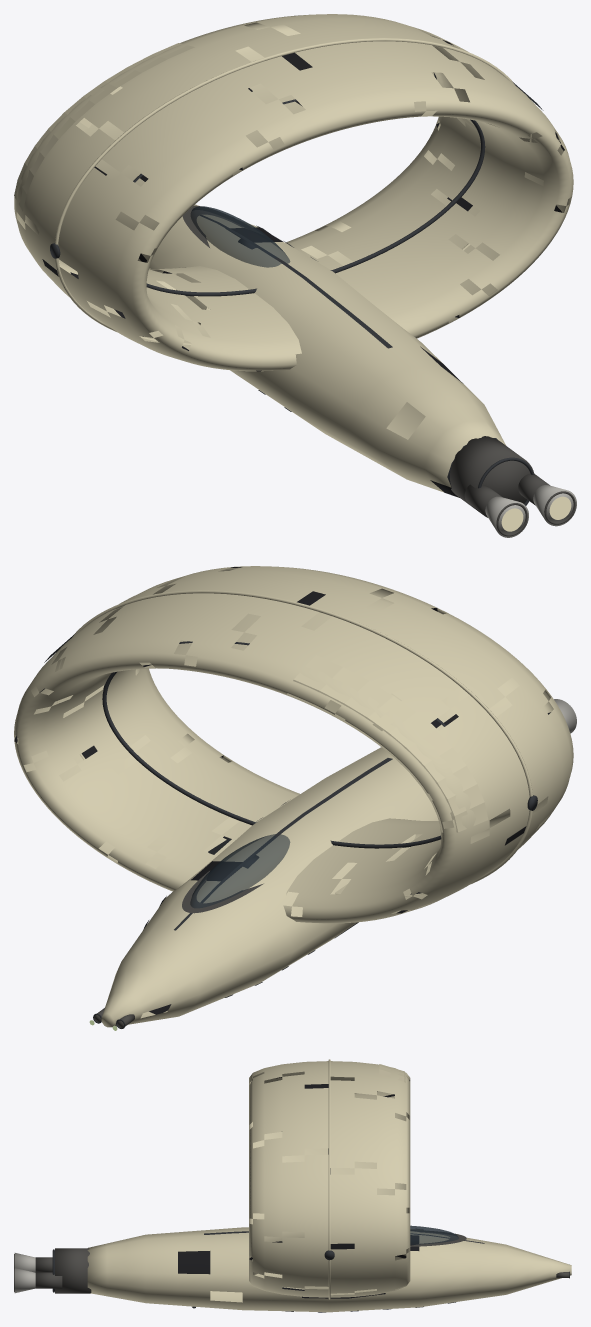
File: Ship_Hooper_760830.glb
The picture shows the model from 3 angles, top to bottom: view 1: azimuth 30°, elevation 25°; view 2: azimuth 150°, elevation 25°; view 3: azimuth 270°, elevation 25°; orthographic projection. The views are drawn at different scales.
Parts seen in each view (by area): view 1: Hoop_MainStructuralRing_YAxisHole_ElongatedY_LowerMidpointAt, Fuselage_MainCenteredHull_CenterOfMassAtOrigin, EngineBlock_AftHullIntegratedMountPlate, CanopyGlass_LowForwardPodDome, PaintHoopAsymmetricGate_LeftTallPrimaryPanel, Hoop_OuterArmorRaisedRim, Hoop_InnerLip_DarkInsetRing, EngineBell_Left_AftHullBurnishedNozzle, EngineBell_Right_AftHullBurnishedNozzle, FuselageLongitudinalSeam_DorsalDarkSpine, EngineEmitter, CanopyFrame_LowInsetOvalRim; view 2: Hoop_MainStructuralRing_YAxisHole_ElongatedY_LowerMidpointAt, Fuselage_MainCenteredHull_CenterOfMassAtOrigin, PaintHoopAsymmetricGate_LeftTallPrimaryPanel, CanopyGlass_LowForwardPodDome, Hoop_OuterArmorRaisedRim, Hoop_InnerLip_DarkInsetRing, CanopyFrame_LowInsetOvalRim, FuselageLongitudinalSeam_DorsalDarkSpine; view 3: Hoop_MainStructuralRing_YAxisHole_ElongatedY_LowerMidpointAt, Fuselage_MainCenteredHull_CenterOfMassAtOrigin, EngineBlock_AftHullIntegratedMountPlate, CanopyGlass_LowForwardPodDome, Hoop_OuterArmorRaisedRim, EngineBell_Right_AftHullBurnishedNozzle, EngineThroat_Right_AftHullDarkSocket, CanopyFrame_LowInsetOvalRim, EngineBell_Left_AftHullBurnishedNozzle.
Boxes of the visible parts, box(x1,y1,x2,y2) form: Hoop_MainStructuralRing_YAxisHole_ElongatedY_LowerMidpointAt: box(14, 14, 573, 371); Fuselage_MainCenteredHull_CenterOfMassAtOrigin: box(149, 204, 505, 497); EngineBlock_AftHullIntegratedMountPlate: box(450, 436, 534, 517); CanopyGlass_LowForwardPodDome: box(190, 206, 290, 267); PaintHoopAsymmetricGate_LeftTallPrimaryPanel: box(14, 43, 194, 211); Hoop_OuterArmorRaisedRim: box(55, 38, 531, 344); Hoop_InnerLip_DarkInsetRing: box(133, 99, 485, 296); EngineBell_Left_AftHullBurnishedNozzle: box(485, 496, 528, 537); EngineBell_Right_AftHullBurnishedNozzle: box(533, 485, 576, 526); FuselageLongitudinalSeam_DorsalDarkSpine: box(200, 215, 392, 348); EngineEmitter: box(501, 496, 571, 531); CanopyFrame_LowInsetOvalRim: box(182, 205, 260, 247); Hoop_MainStructuralRing_YAxisHole_ElongatedY_LowerMidpointAt: box(14, 566, 573, 923); Fuselage_MainCenteredHull_CenterOfMassAtOrigin: box(101, 747, 438, 1027); PaintHoopAsymmetricGate_LeftTallPrimaryPanel: box(287, 655, 488, 832); CanopyGlass_LowForwardPodDome: box(190, 834, 290, 908); Hoop_OuterArmorRaisedRim: box(57, 590, 532, 896); Hoop_InnerLip_DarkInsetRing: box(102, 641, 446, 848); CanopyFrame_LowInsetOvalRim: box(182, 871, 263, 913); FuselageLongitudinalSeam_DorsalDarkSpine: box(174, 758, 392, 930); Hoop_MainStructuralRing_YAxisHole_ElongatedY_LowerMidpointAt: box(249, 1061, 410, 1297); Fuselage_MainCenteredHull_CenterOfMassAtOrigin: box(87, 1227, 571, 1312); EngineBlock_AftHullIntegratedMountPlate: box(55, 1248, 91, 1293); CanopyGlass_LowForwardPodDome: box(410, 1225, 458, 1244); Hoop_OuterArmorRaisedRim: box(328, 1059, 330, 1299); EngineBell_Right_AftHullBurnishedNozzle: box(14, 1268, 35, 1293); EngineThroat_Right_AftHullDarkSocket: box(35, 1272, 62, 1288); CanopyFrame_LowInsetOvalRim: box(410, 1230, 466, 1246); EngineBell_Left_AftHullBurnishedNozzle: box(14, 1253, 35, 1272).
Bounding box in the file's own units: 4.25 × 2.85 × 6.64.
